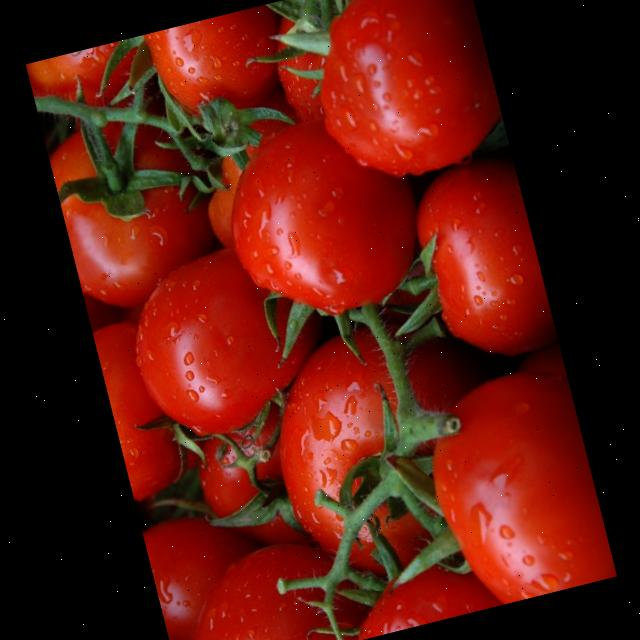tomato: (249, 314, 482, 590), (204, 96, 438, 350), (394, 361, 611, 618), (43, 85, 238, 326), (119, 236, 334, 452), (282, 0, 506, 195), (149, 486, 403, 640), (396, 154, 550, 370), (176, 425, 336, 573), (128, 7, 278, 135), (318, 552, 517, 640), (144, 502, 251, 640), (34, 35, 160, 136)
